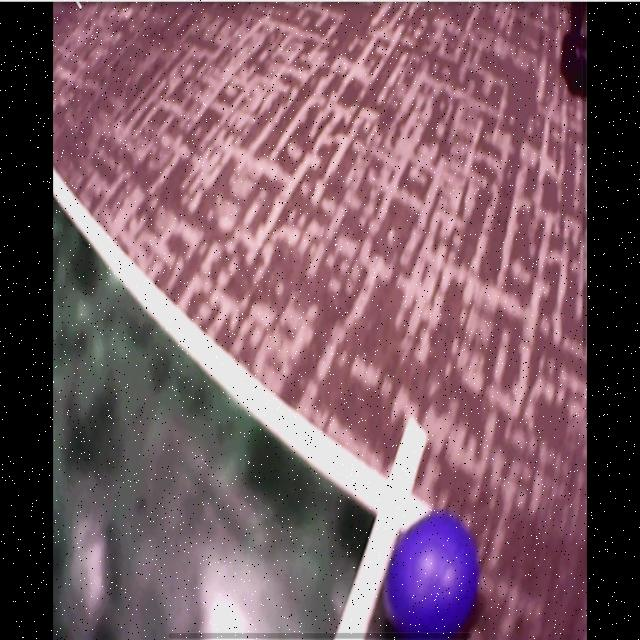ball: (383, 512, 478, 640)
